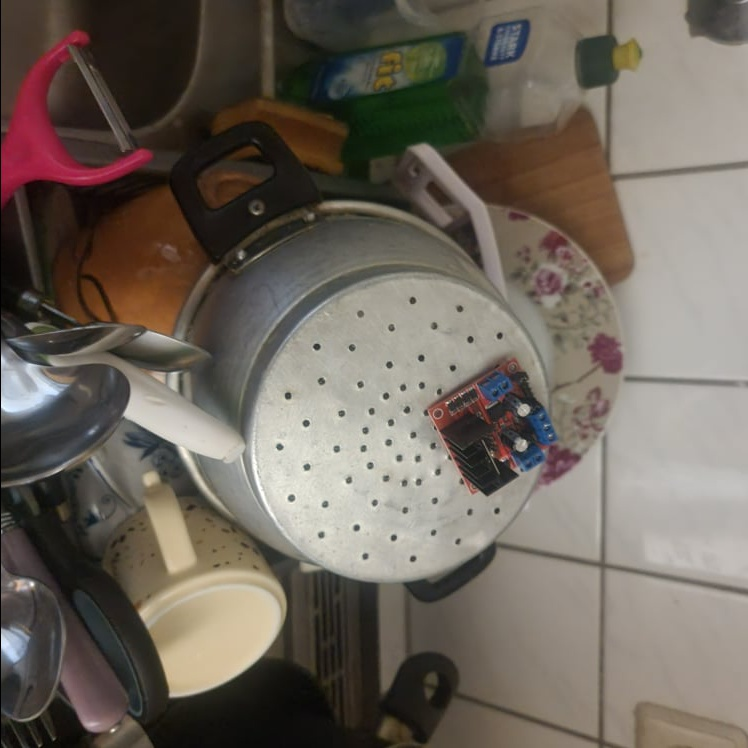MOTOR: (422, 357, 557, 500)
